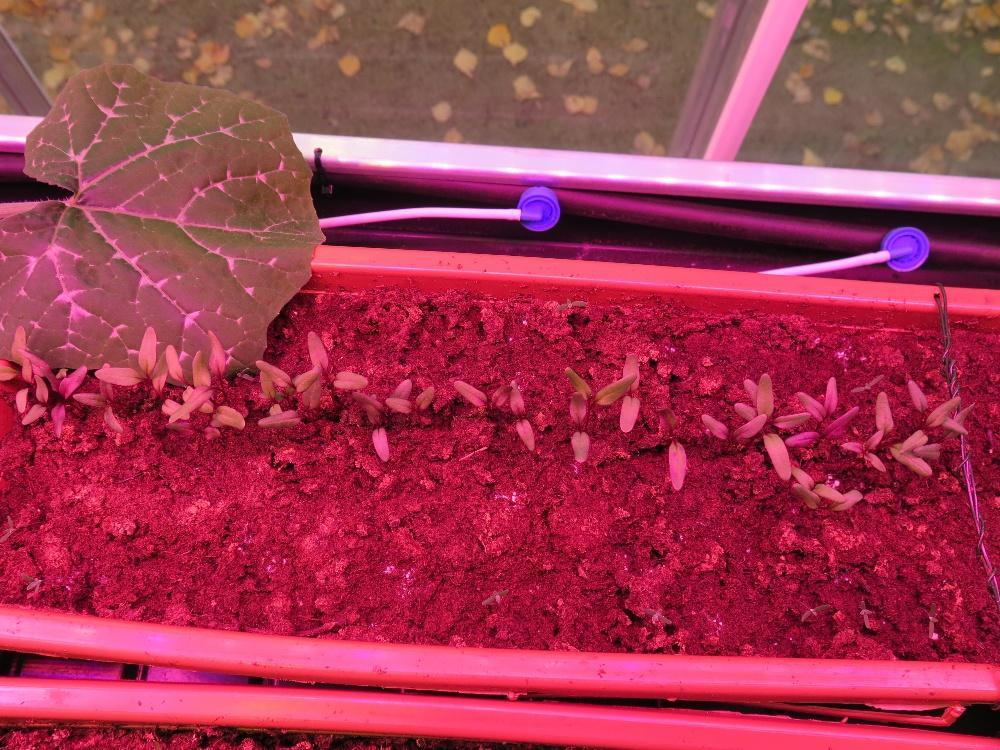crop: (652, 402, 686, 494)
weed: (637, 603, 672, 627), (799, 600, 832, 623), (479, 587, 508, 608), (925, 599, 940, 639), (18, 571, 41, 596), (856, 597, 872, 630)
